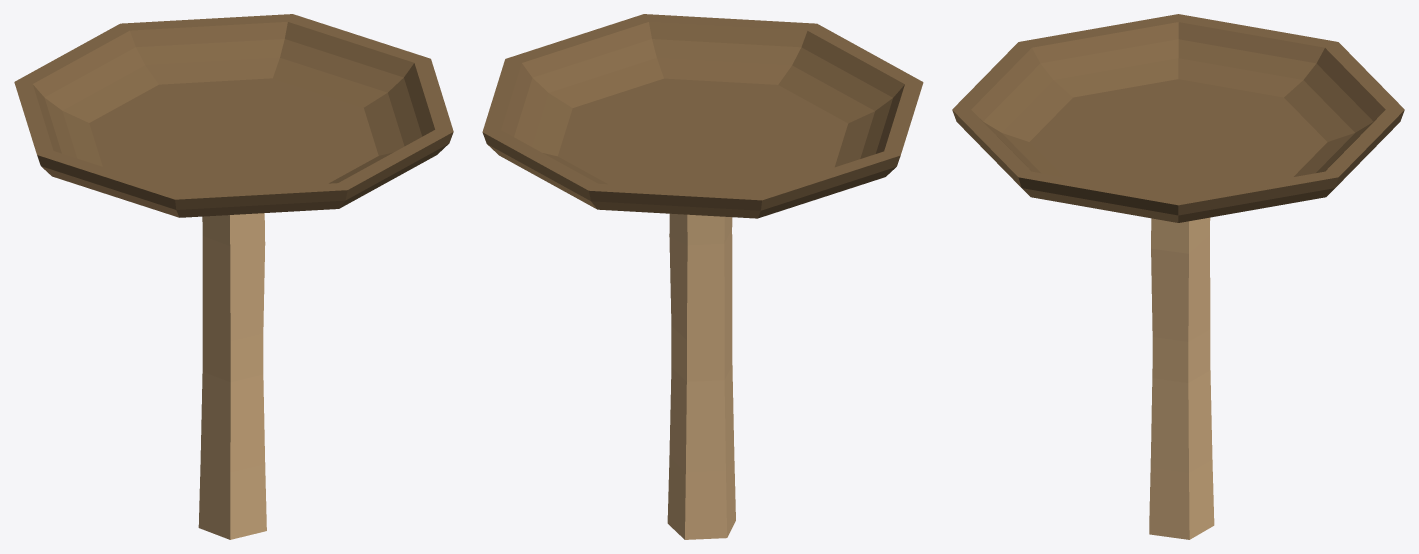
The model's file is mushroom2.fbx.
The picture shows the model from 3 angles, left to right: view 1: azimuth 30°, elevation 25°; view 2: azimuth 150°, elevation 25°; view 3: azimuth 270°, elevation 25°; orthographic projection.
Visible parts, largest first — view 1: Head, Stem; view 2: Head, Stem; view 3: Head, Stem.
Boxes of the visible parts, <box> form: Head: <box>14,14,453,217</box>; Stem: <box>198,213,266,539</box>; Head: <box>482,14,923,218</box>; Stem: <box>667,213,735,539</box>; Head: <box>952,14,1404,222</box>; Stem: <box>1149,217,1214,539</box>.
Size of the model in its own units: 36.17 by 36.66 by 36.17.
